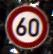Speed Limit -60-: (3, 3, 48, 48)
